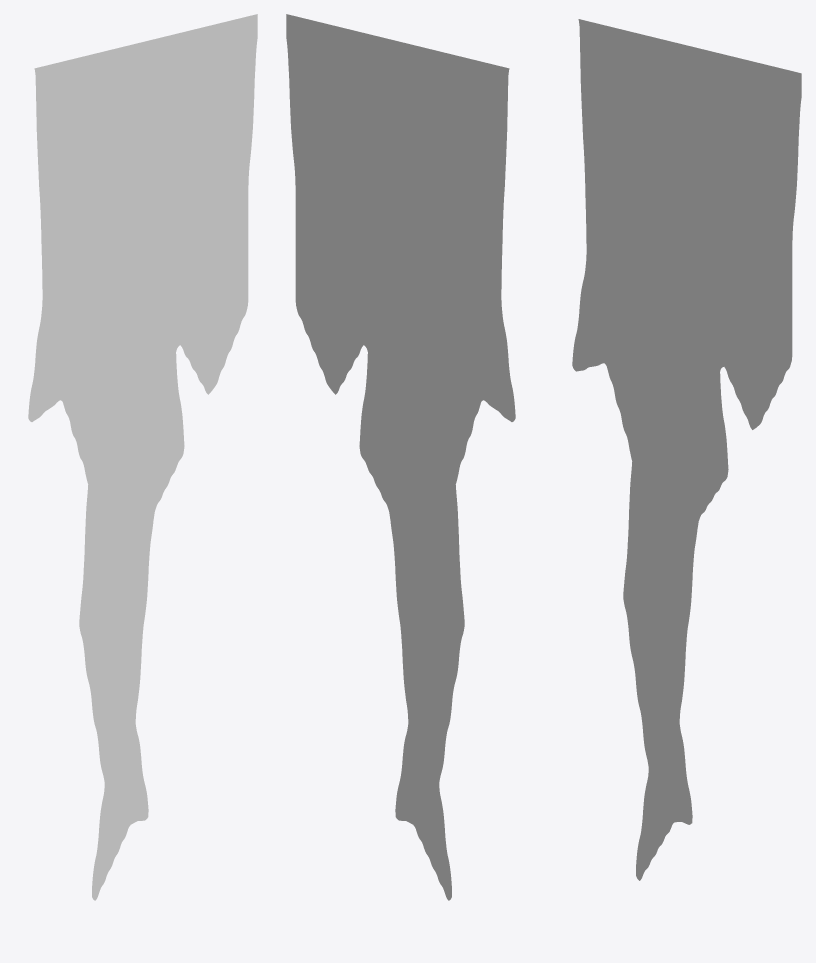
Rendered from SM_Prop_Flag_Piece_07.fbx.
The picture shows the model from 3 angles, left to right: view 1: azimuth 30°, elevation 25°; view 2: azimuth 150°, elevation 25°; view 3: azimuth 330°, elevation 25°; orthographic projection.
Visible parts, largest first — view 1: SM_Prop_Flag_Piece_07; view 2: SM_Prop_Flag_Piece_07; view 3: SM_Prop_Flag_Piece_07.
Boxes of the visible parts, x1,y1,x2,y2 form: SM_Prop_Flag_Piece_07: [28, 14, 257, 900]; SM_Prop_Flag_Piece_07: [286, 14, 515, 900]; SM_Prop_Flag_Piece_07: [572, 19, 801, 880].
Size of the model in its own units: 26.92 by 92.56 by 0.
